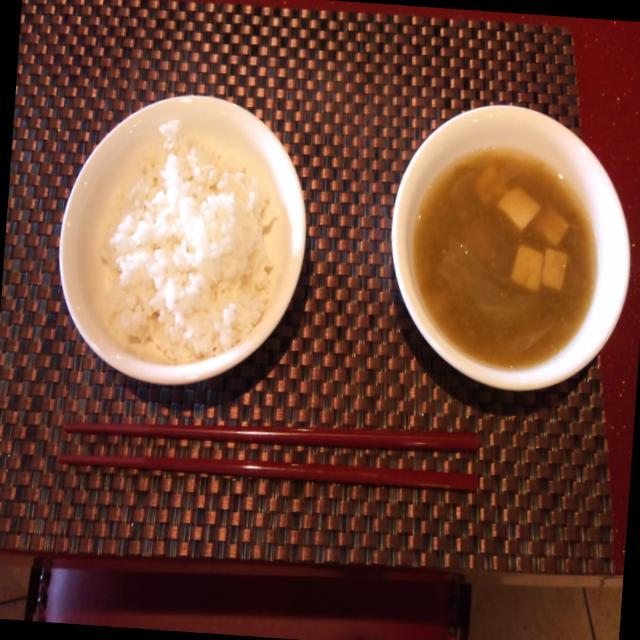Rice: (48, 84, 318, 398)
